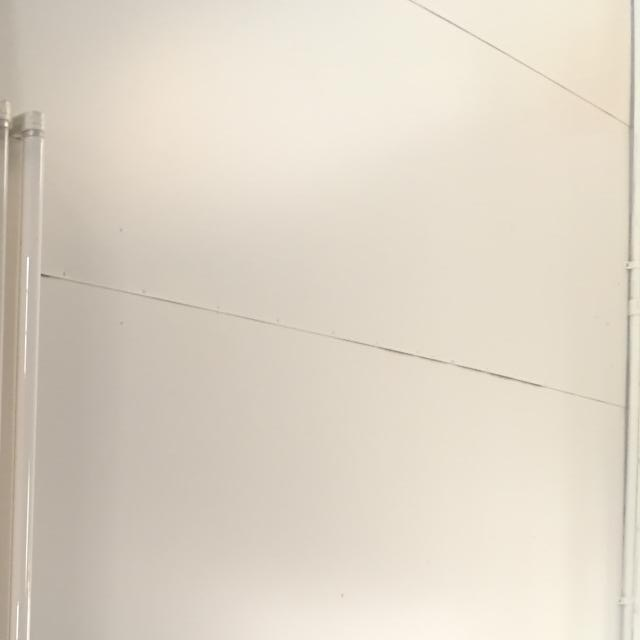fluorescent tube: (0, 69, 93, 640)
